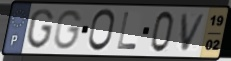0: (150, 10, 175, 54)
G: (52, 9, 84, 51), (25, 8, 56, 51)
L: (116, 10, 139, 51)
O: (86, 7, 117, 53)
V: (180, 12, 208, 52)
